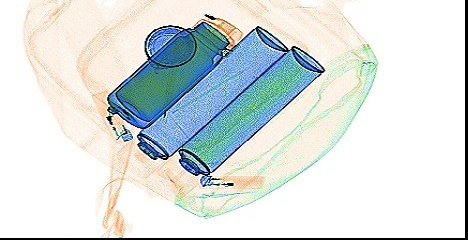lighter: (89, 88, 133, 143), (197, 173, 266, 190)
pressure: (110, 23, 288, 181), (152, 43, 325, 200)
